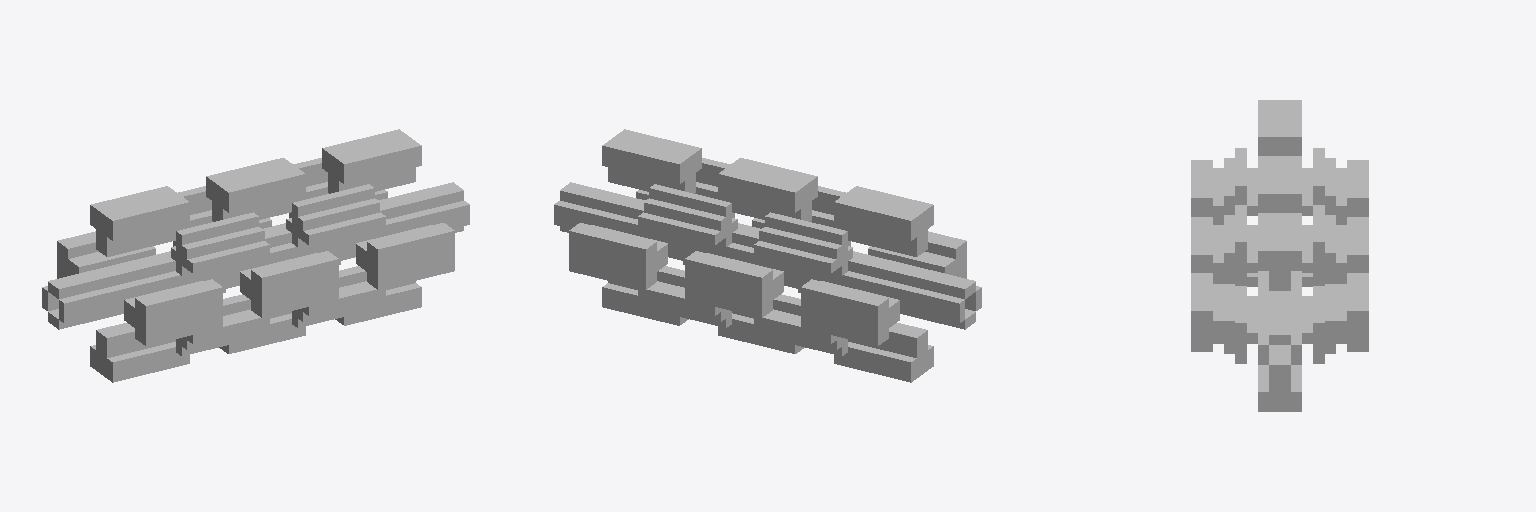
The model's file is power_gen-2.obj.
The picture shows the model from 3 angles: view 1: azimuth 30°, elevation 25°; view 2: azimuth 150°, elevation 25°; view 3: azimuth 270°, elevation 25°; orthographic projection.
Visible parts, largest first — view 1: power_gen-2; view 2: power_gen-2; view 3: power_gen-2.
Part boxes in pixels (bbox=[...]): power_gen-2: bbox=[42, 129, 469, 382]; power_gen-2: bbox=[554, 129, 981, 382]; power_gen-2: bbox=[1191, 100, 1368, 411].
Size of the model in its own units: 42 by 16 by 16.